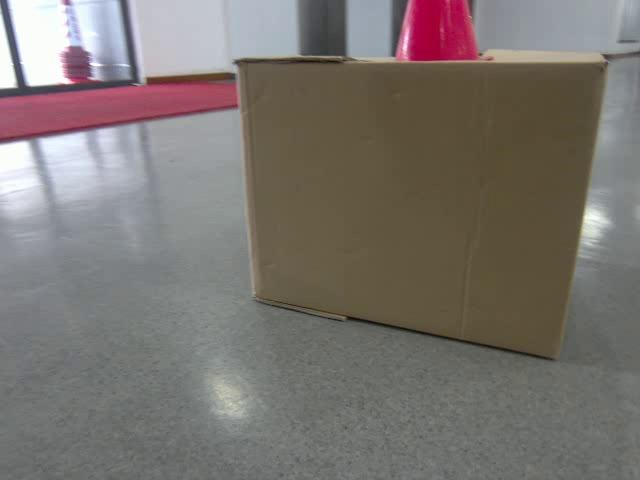red_barrel: (390, 0, 496, 62)
